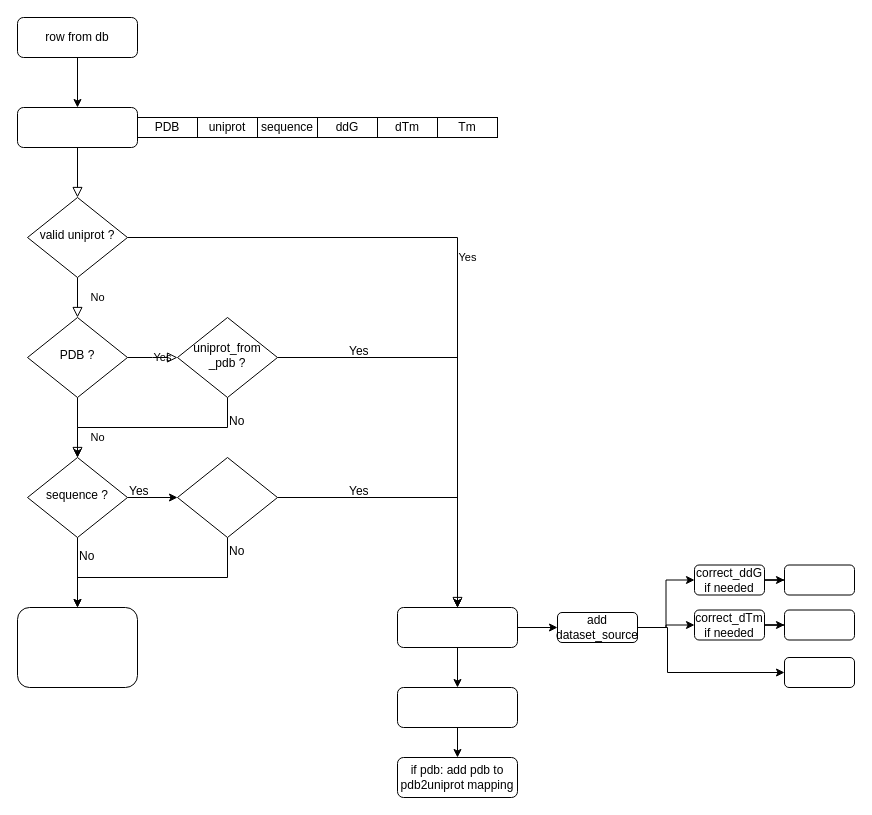
The diagram is 872 pixels wide and 815 high, and some of its shapes have lost their labels. Each missing label, with the centre of its shape:
"add pdb and sequence (if exists) to pdb_no_uniprot & sequence_no_uniprot" goes at point (77, 647).
"add sequence to seq2uniprot mapping" goes at point (457, 707).
"add uniprot & target to respective df" goes at point (457, 627).
"df_ddG" goes at point (819, 579).
"df_dTm" goes at point (819, 624).
"df_Tm" goes at point (819, 672).
"uniprot_from _sequence ?" goes at point (227, 497).
"useful infos only" goes at point (77, 127).
